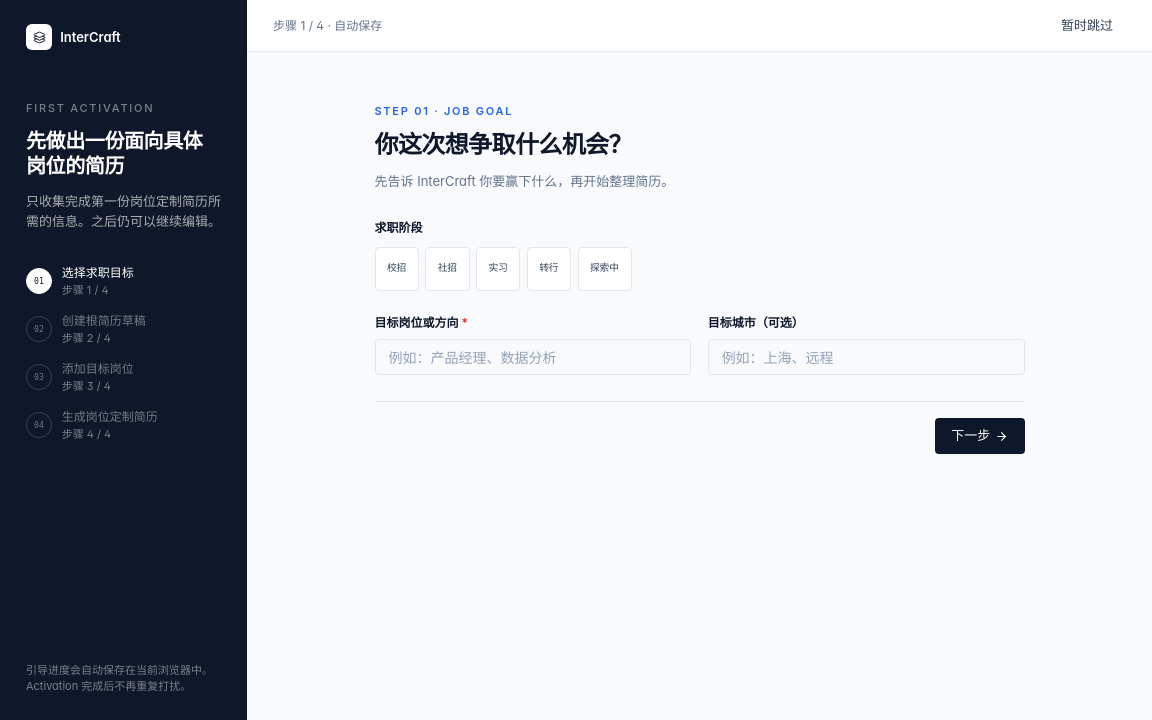
Scenario: Onboarding › validates the goal before moving forward and autosaves valid input
Click the button "下一步": (980, 436) [935,418,1024,454]
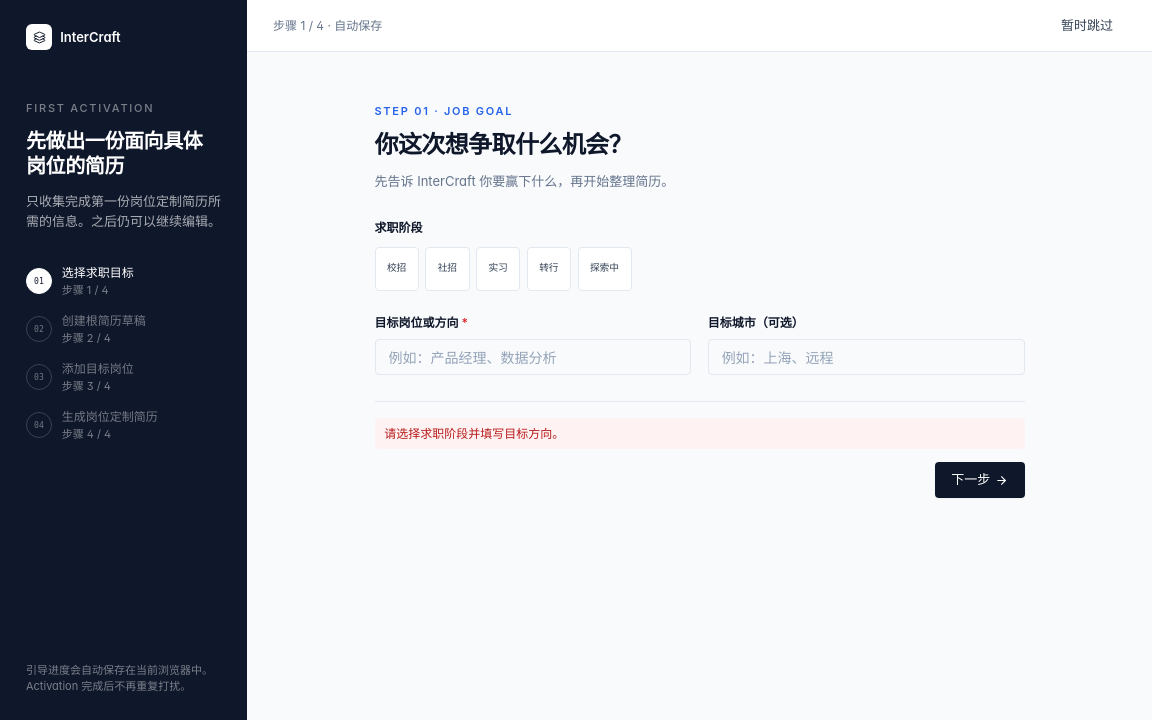
expect the message shows "选择求职阶段并填写目标方向": met, box [384,426,564,441]
Click the button "转行": (549, 269) [527,247,571,291]
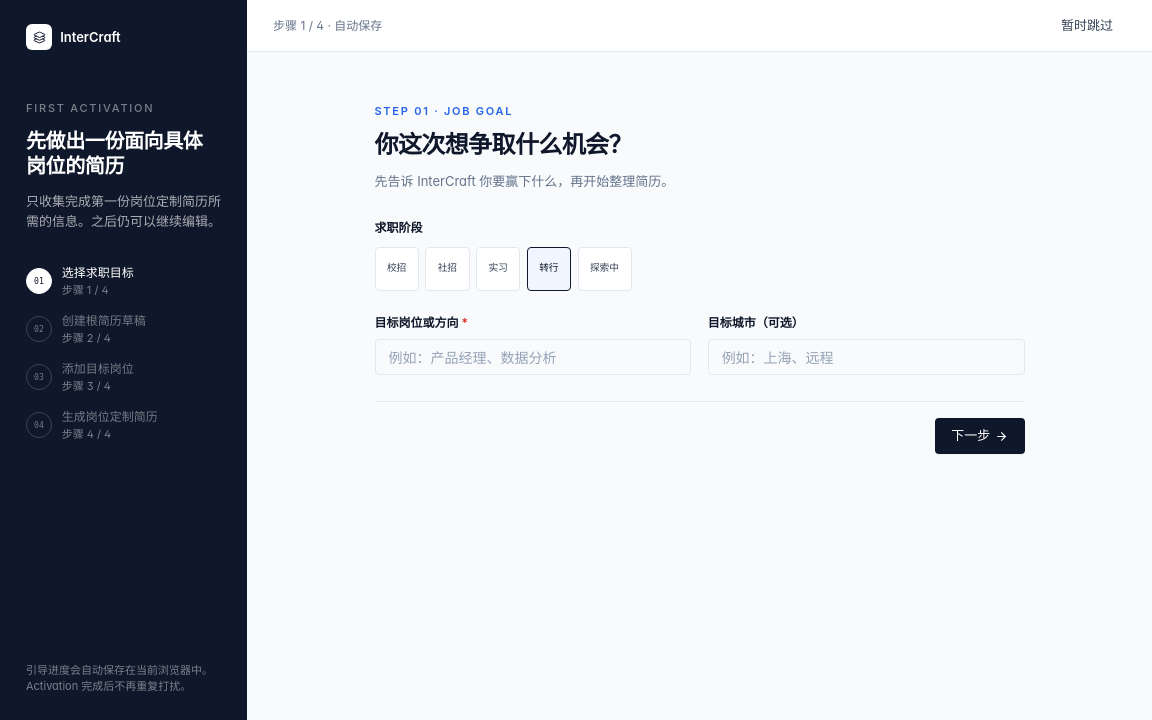
In the field labelled "目标岗位或方向 *": (533, 357) [374,339,691,375], type "产品经理"
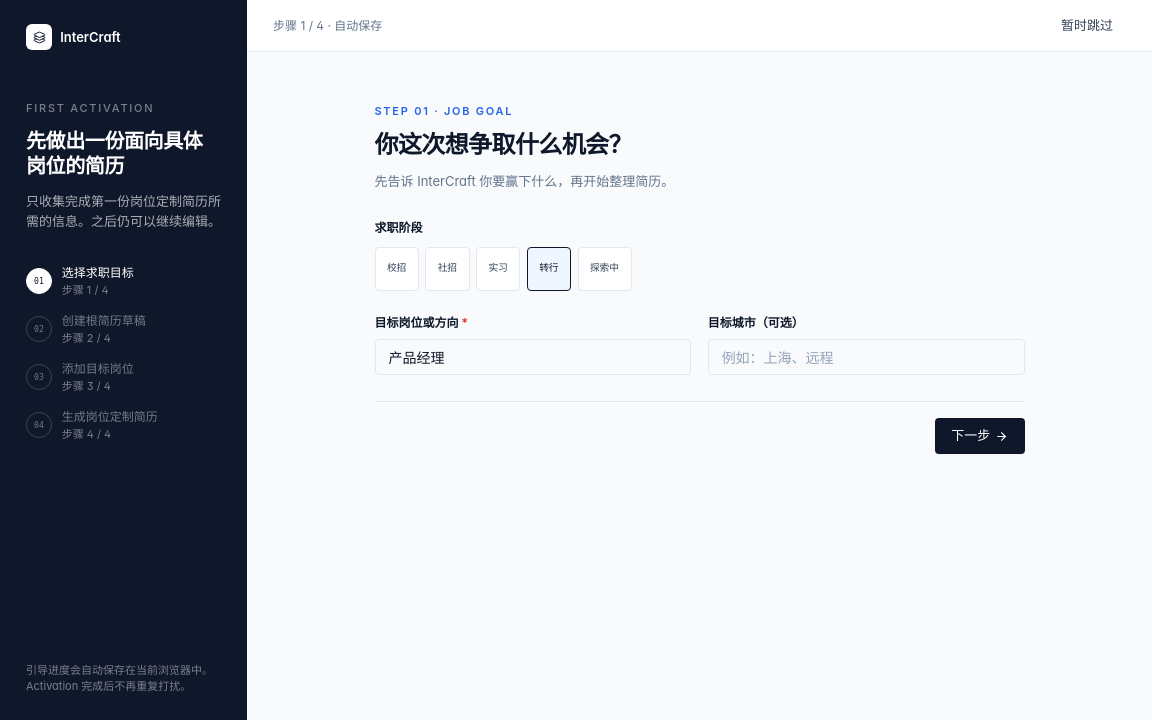
Click the button "下一步": (980, 436) [935,418,1024,454]
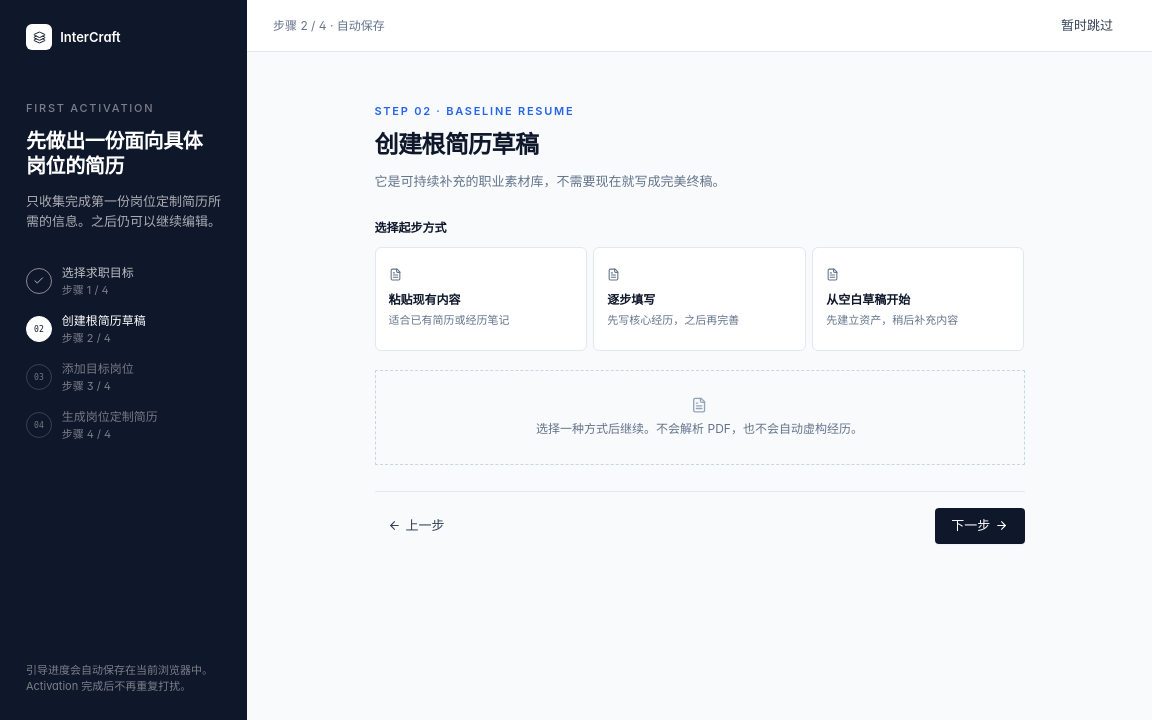
expect the heading "创建根简历草稿" is shown: met, box [374,130,538,159]
